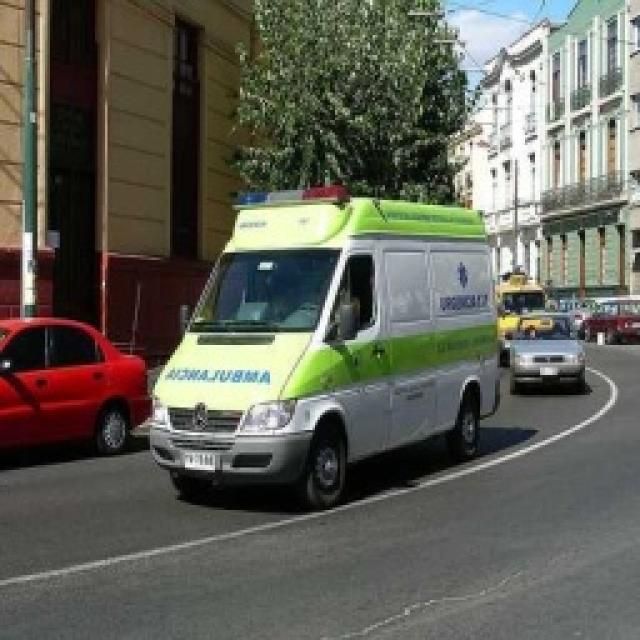emergency-vehicle: (138, 175, 514, 511)
